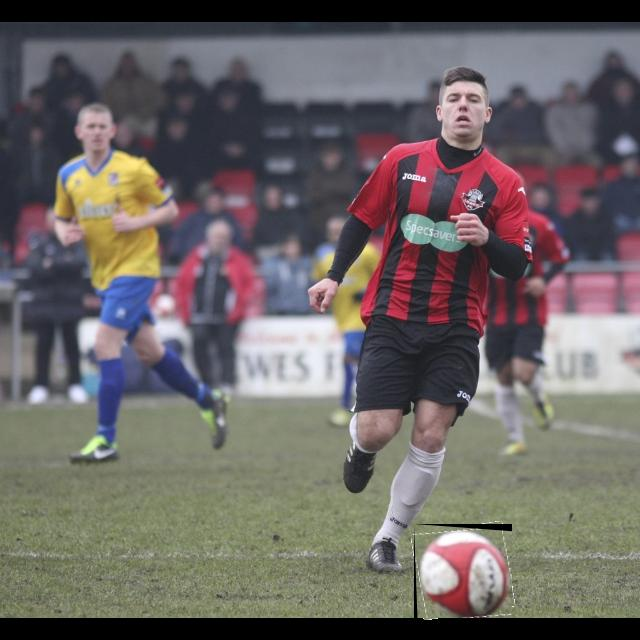Football: (414, 524, 512, 618)
